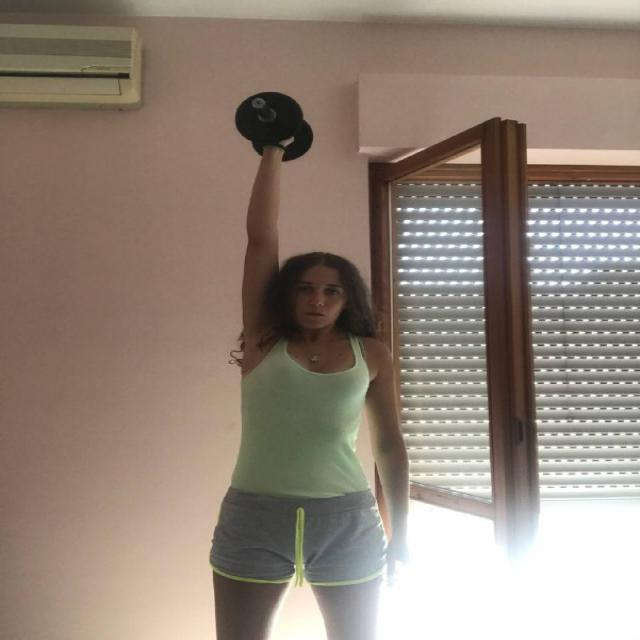Gym Weights: (231, 84, 323, 172)
